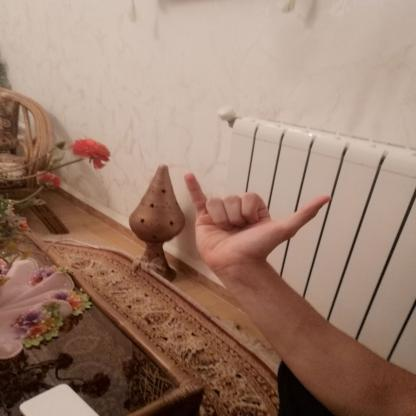YA: (166, 164, 344, 280)
